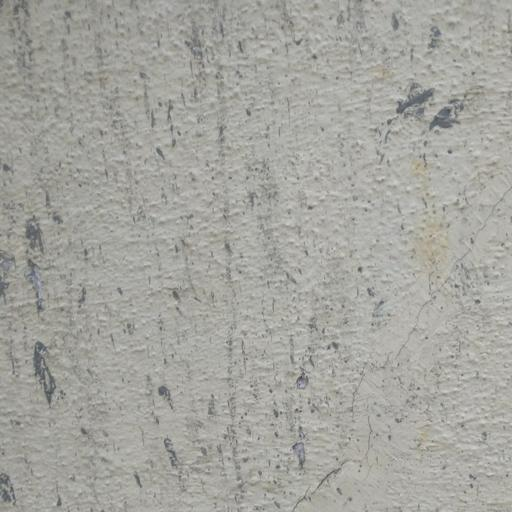stain: (22, 5, 512, 512)
